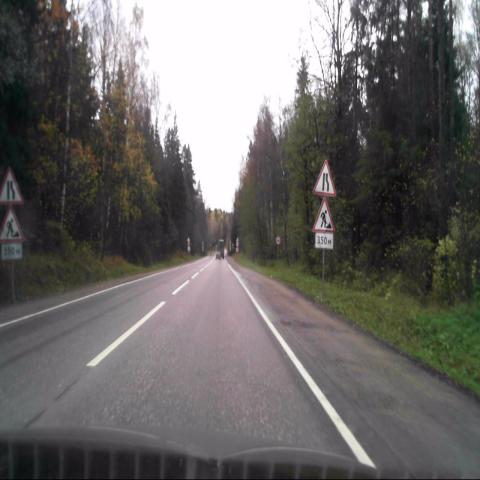1_20_2: (0, 165, 22, 205)
8_1_1: (1, 243, 23, 260), (316, 233, 334, 249)
